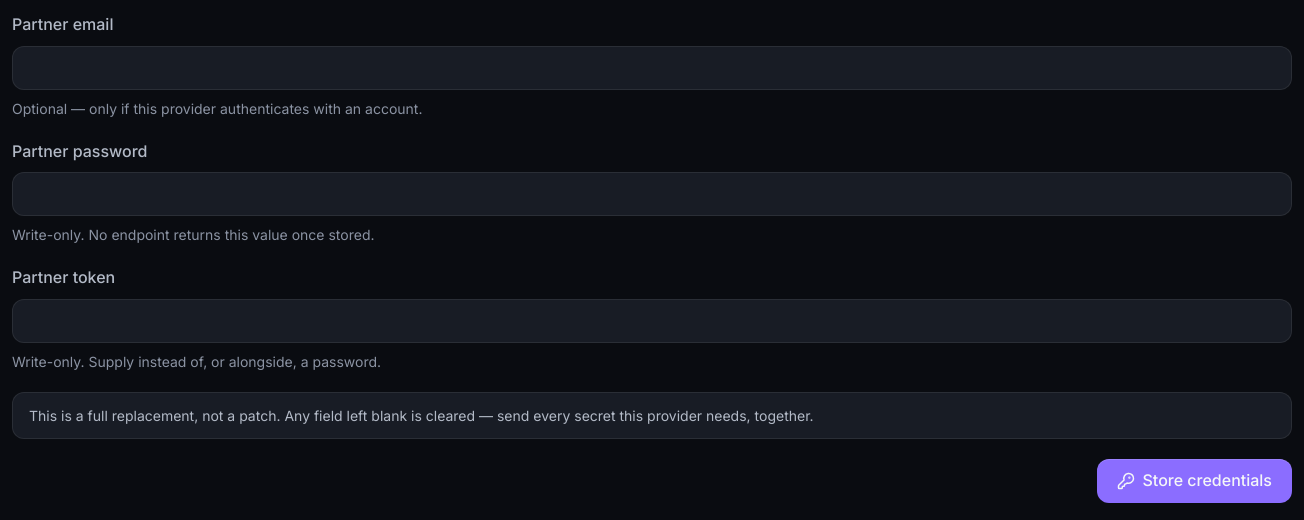
Test: CredentialForm › refuses a submission with neither a password nor a token
Click the button "Store credentials". click: x=1194, y=481
box: [1096,459,1292,503]
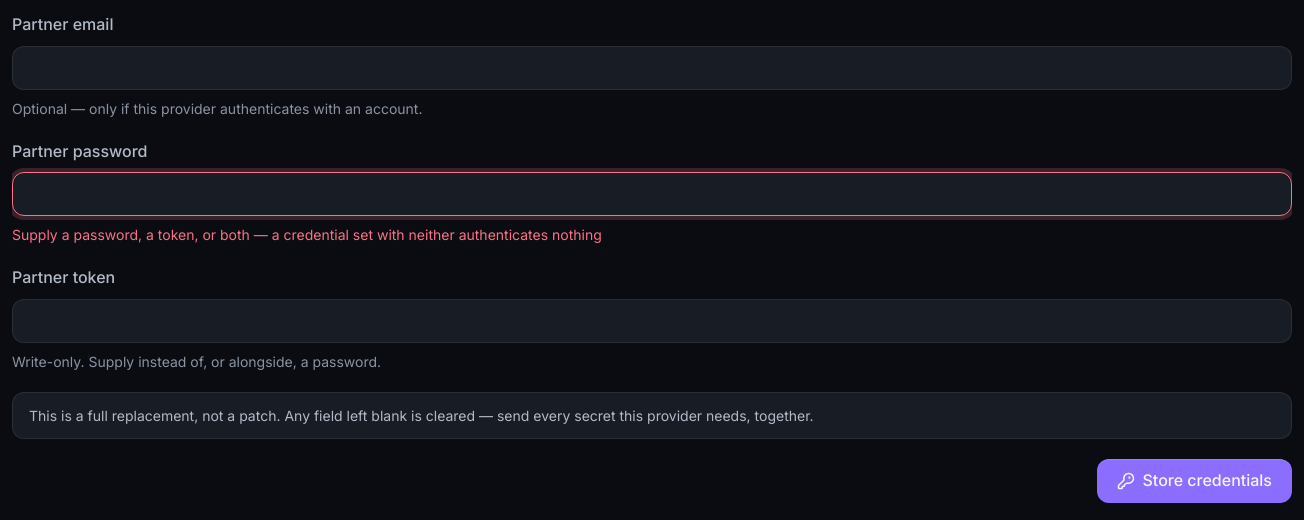
Expected: the message is shown, [12,226,602,243]
